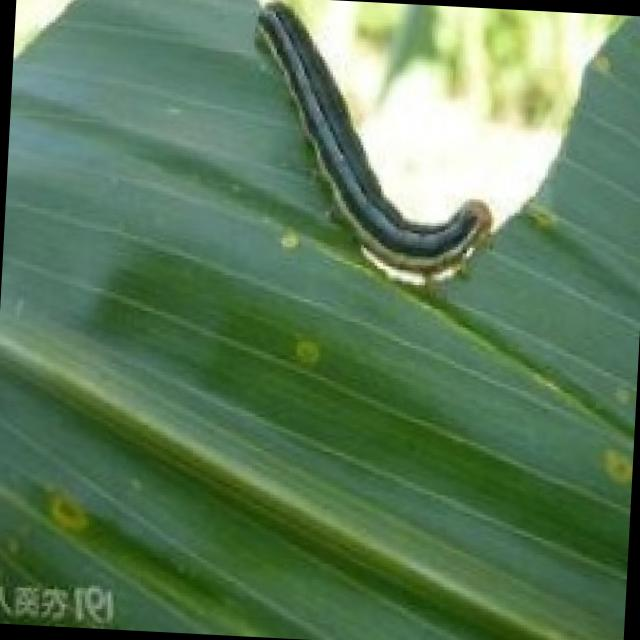armyworm: (239, 1, 531, 297)
